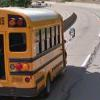Bus: (1, 3, 69, 95)
